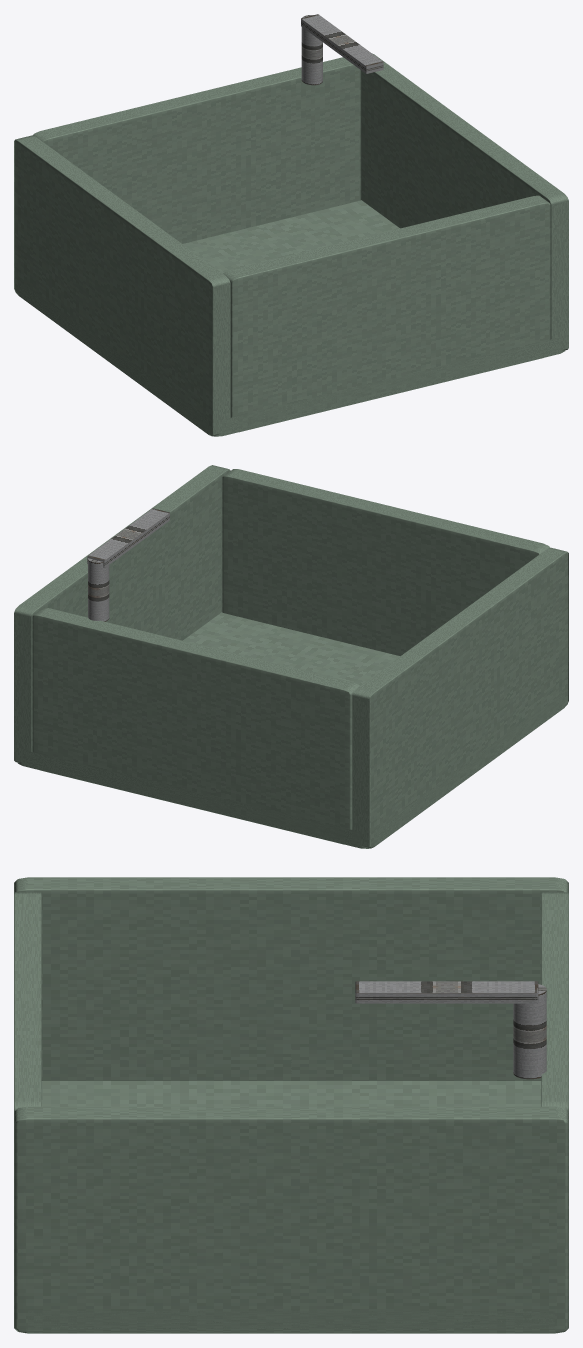
File: eyewash.glb
The picture shows the model from 3 angles, top to bottom: view 1: azimuth 30°, elevation 25°; view 2: azimuth 150°, elevation 25°; view 3: azimuth 270°, elevation 25°; orthographic projection. The views are drawn at different scales.
Visible parts, largest first — view 1: edge (×2), side (×2), bottom, spout, spout-post; view 2: edge (×2), side (×2), bottom, spout, spout-post; view 3: side (×2), bottom, edge (×2), spout, spout-post.
Boxes of the visible parts, left/top/right/bottom form: edge (×2): left=33, top=57, right=551, bottom=432; side (×2): left=14, top=53, right=568, bottom=436; bottom: left=18, top=200, right=565, bottom=436; spout: left=301, top=14, right=383, bottom=73; spout-post: left=301, top=15, right=322, bottom=85; edge (×2): left=31, top=469, right=549, bottom=844; side (×2): left=14, top=465, right=568, bottom=848; bottom: left=18, top=612, right=564, bottom=848; spout: left=87, top=508, right=169, bottom=567; spout-post: left=88, top=558, right=109, bottom=621; side (×2): left=14, top=877, right=568, bottom=1333; bottom: left=27, top=1081, right=555, bottom=1333; edge (×2): left=14, top=892, right=568, bottom=1111; spout: left=355, top=981, right=538, bottom=1003; spout-post: left=513, top=984, right=546, bottom=1079.
Size of the model in its own units: 0.36 by 0.2077 by 0.35.
Materials: 2 (2 with a texture image).
